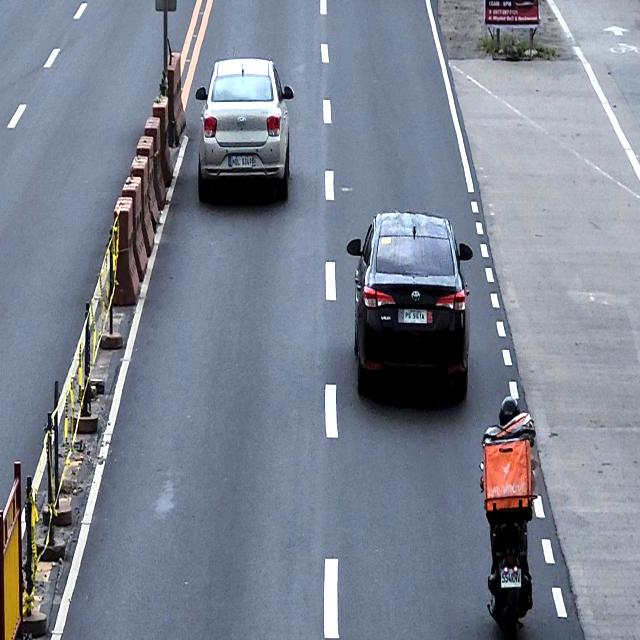Car: (346, 210, 473, 400), (195, 56, 294, 201)
License-Plate: (401, 307, 430, 326), (499, 567, 522, 590), (230, 154, 255, 168)
Motorcycle: (479, 395, 537, 633)
